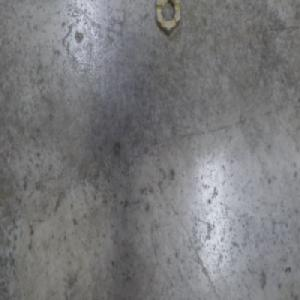Nut: (155, 0, 181, 39)
